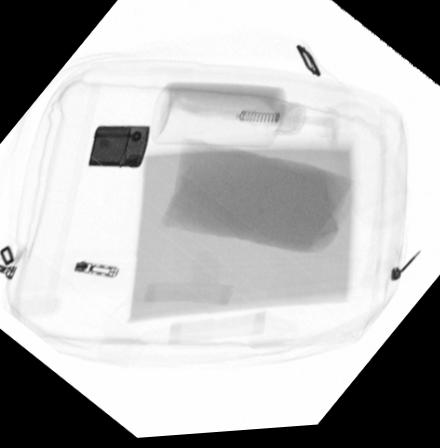Lighter: (86, 126, 150, 168)
